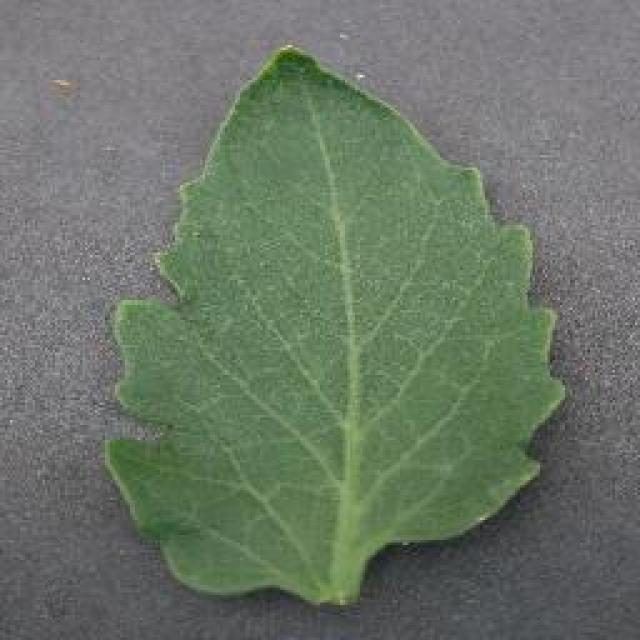Tomato___healthy: (99, 45, 572, 611)
